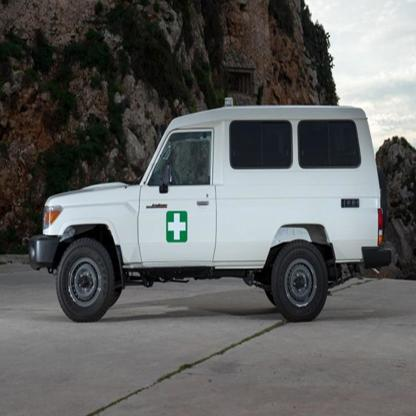light_vehicle: (28, 101, 394, 338)
